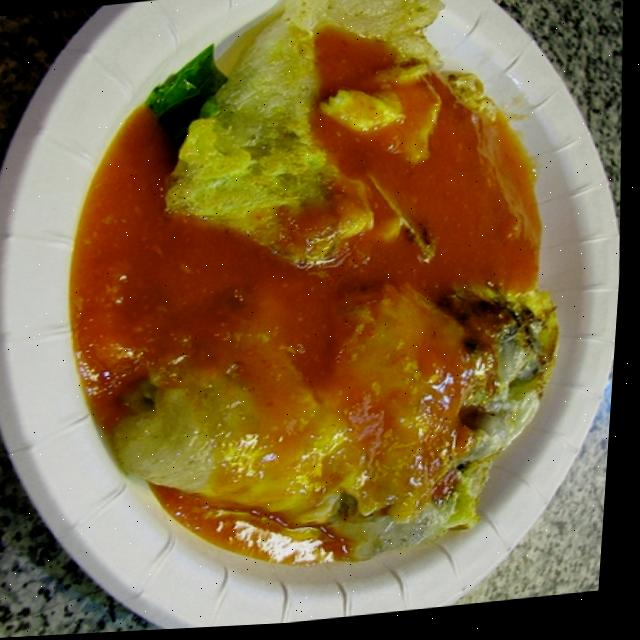熟制海鲜: (0, 0, 629, 620)
